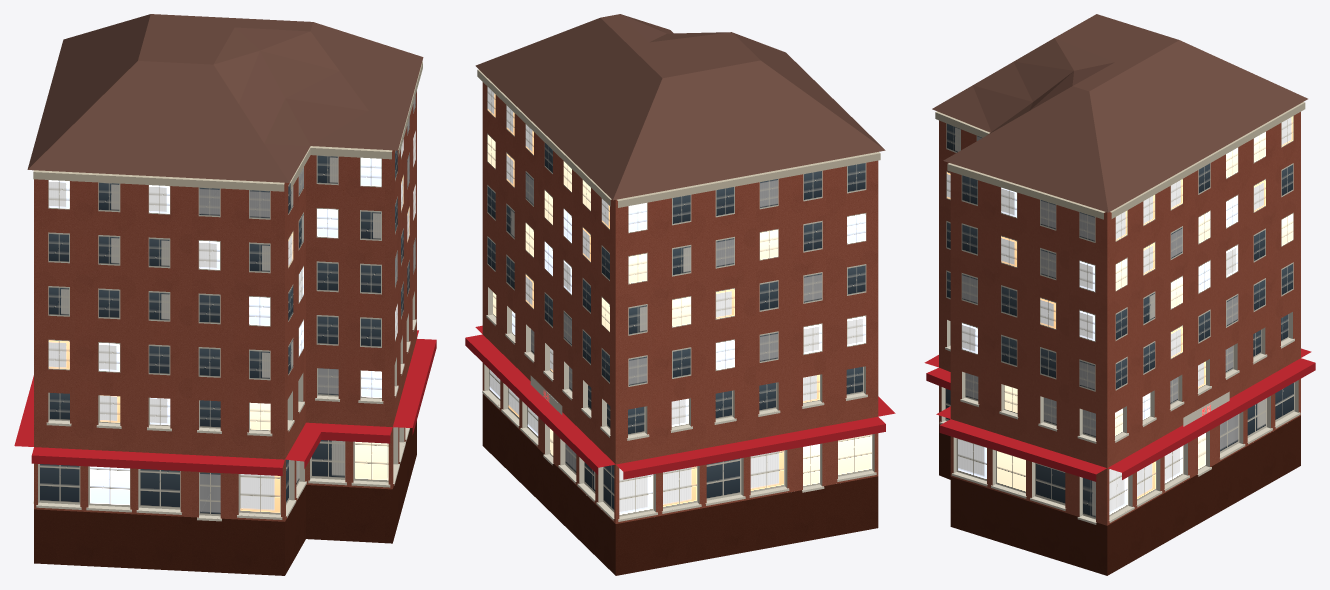
Rendered from langB_rossi.glb.
3 renders of one model, left to right at view 1: azimuth 30°, elevation 25°; view 2: azimuth 150°, elevation 25°; view 3: azimuth 270°, elevation 25°, orthographic. The views are drawn at different scales.
Visible parts, largest first — view 1: langB_rossi; view 2: langB_rossi; view 3: langB_rossi.
Boxes of the visible parts, x1,y1,x2,y2 form: langB_rossi: [14, 14, 436, 575]; langB_rossi: [465, 14, 895, 575]; langB_rossi: [924, 14, 1315, 575].
Size of the model in its own units: 24.69 by 25.93 by 21.22.
3 materials, 3 textured.
